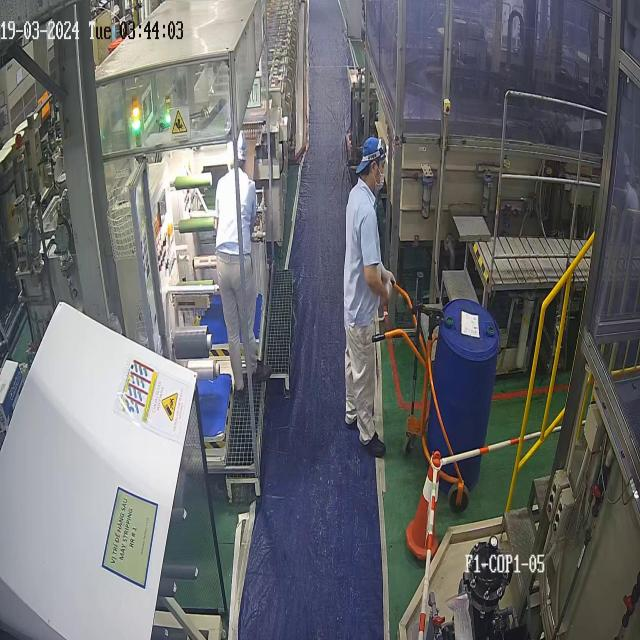Person: (343, 135, 396, 458), (213, 129, 272, 400)
